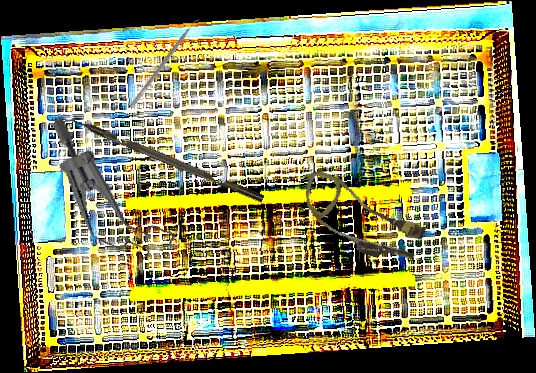Cannula: (291, 168, 432, 271)
Chopper: (57, 110, 265, 213)
Spatula Surgical: (129, 15, 202, 112)
Speculum: (15, 115, 206, 276)
